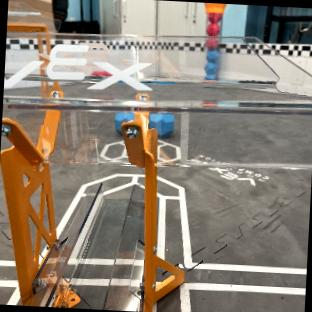Goal: (0, 93, 190, 311), (2, 24, 312, 113)
Low_goal: (26, 181, 144, 311)
V5_BLUE: (148, 112, 173, 136)
